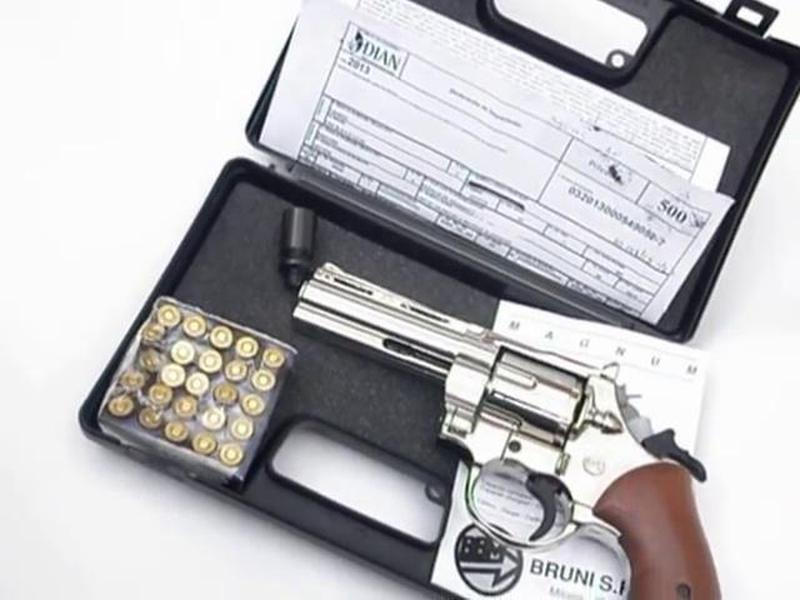Revolver: (314, 260, 713, 600)
